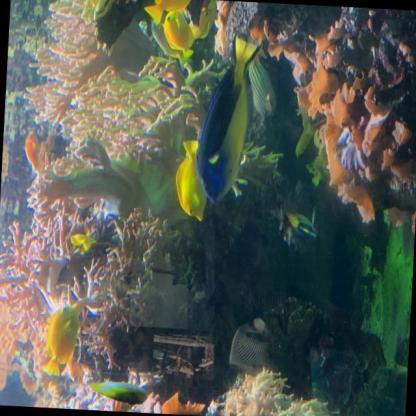fish: (194, 30, 264, 208), (43, 298, 84, 381), (174, 139, 210, 222), (228, 315, 271, 374), (90, 378, 149, 408), (161, 13, 197, 62), (282, 206, 321, 245), (145, 0, 195, 27), (24, 131, 42, 171)
